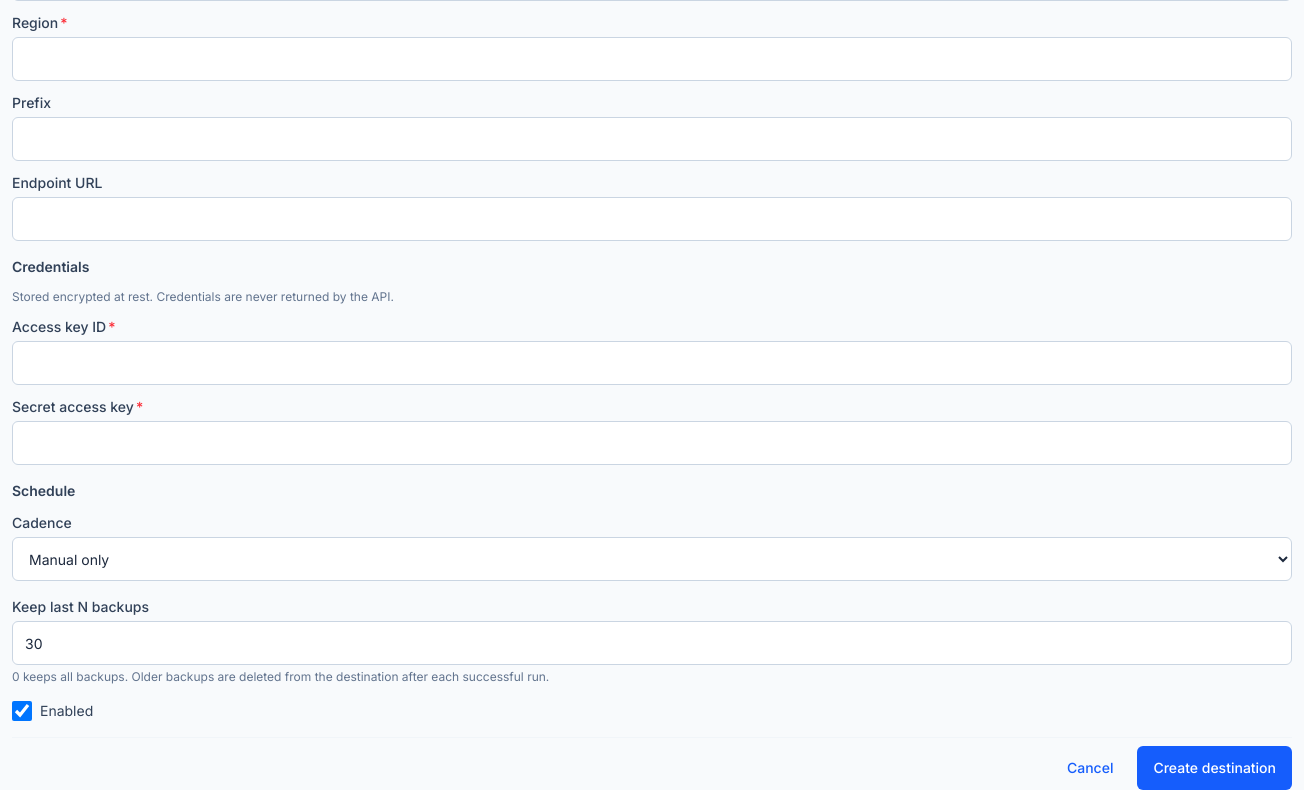
BackupDestinationForm › shows day-of-week selector only when weekly schedule is chosen
The image size is (1304, 790).
(page scrolled)
Expected: the field labelled "day of week" is not shown
Select "Weekly" in the dropdown labelled "Cadence" at (652, 559), box [12,537,1292,581]
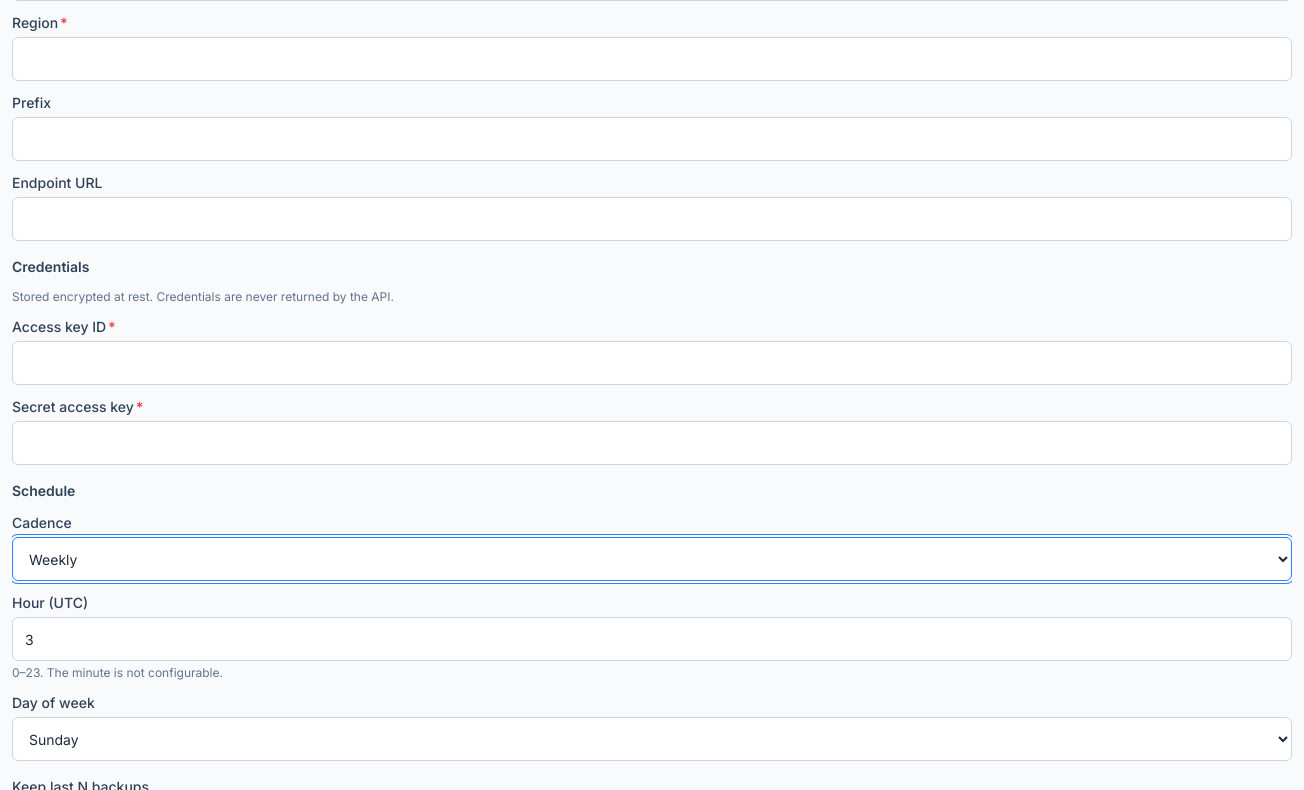
Expected: the dropdown labelled "Day of week" is shown, [12,717,1292,761]
